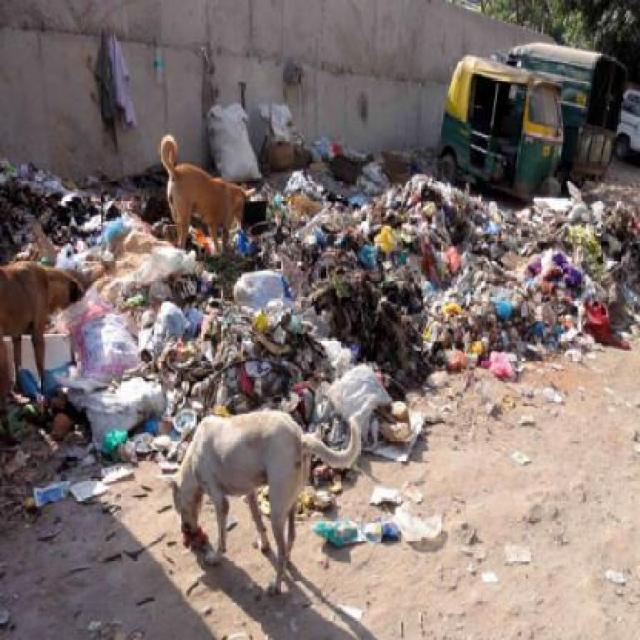garbage: (294, 180, 627, 342), (105, 236, 290, 399), (6, 169, 112, 242)
